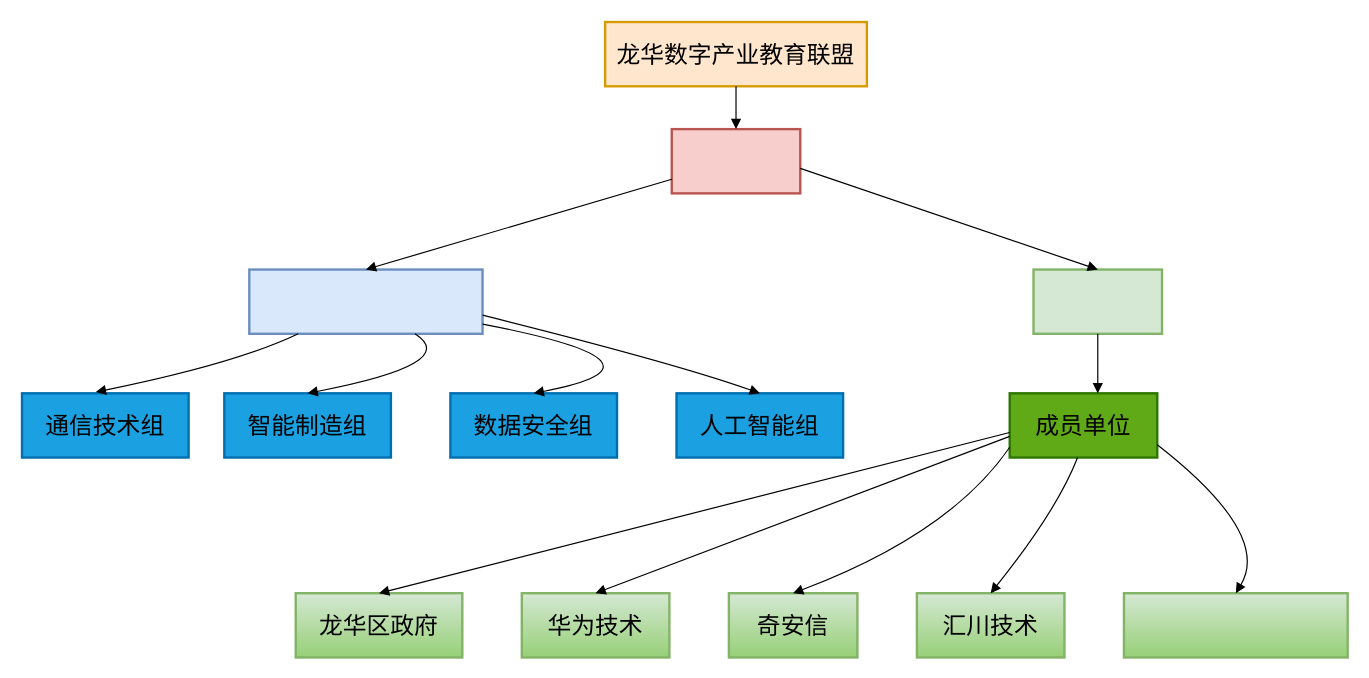
Image size: 1369x678. Some labels were removed from this diagram. The box of each missing label's shape, as (x1, y1, x2, y2) in pixels:
专业工作组（4个）: (248, 268, 483, 334)
理事会: (670, 127, 801, 194)
秘书处: (1032, 268, 1163, 334)
高职院校: (1122, 591, 1348, 658)
